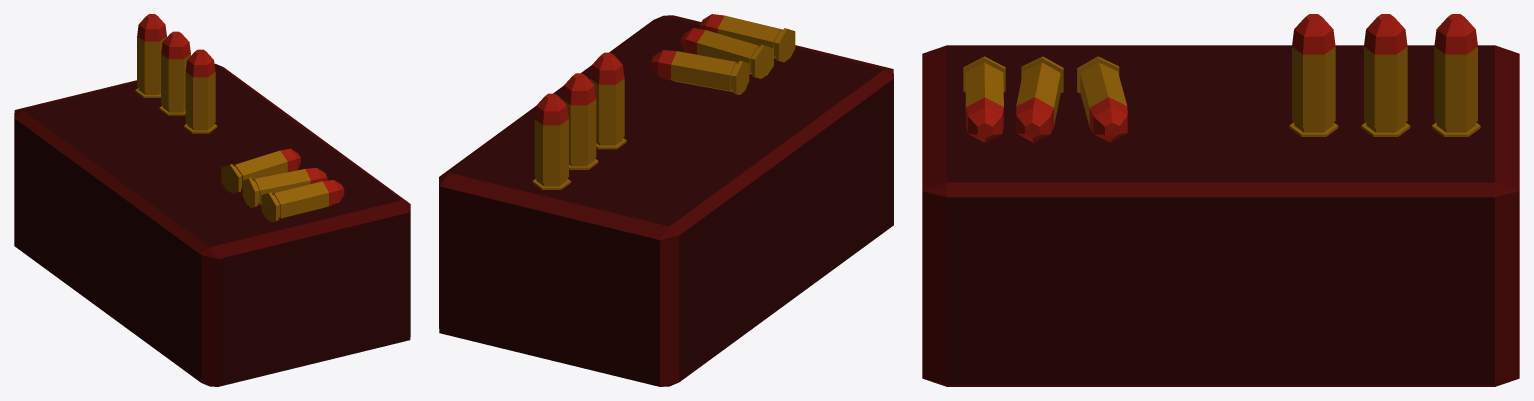
File: ammo_9mm.glb
3 views of the same model, side by side, from view 1: azimuth 30°, elevation 25°; view 2: azimuth 150°, elevation 25°; view 3: azimuth 270°, elevation 25° (orthographic). The views are drawn at different scales.
Visible parts, largest first — view 1: item_ammo_9mm; view 2: item_ammo_9mm; view 3: item_ammo_9mm.
Part boxes in pixels (box(x1,y1,x2,y2)): item_ammo_9mm: box(14, 14, 410, 386); item_ammo_9mm: box(439, 14, 893, 386); item_ammo_9mm: box(922, 14, 1519, 386).
Bounding box in the file's own units: 0.1187 × 0.1165 × 0.2.
